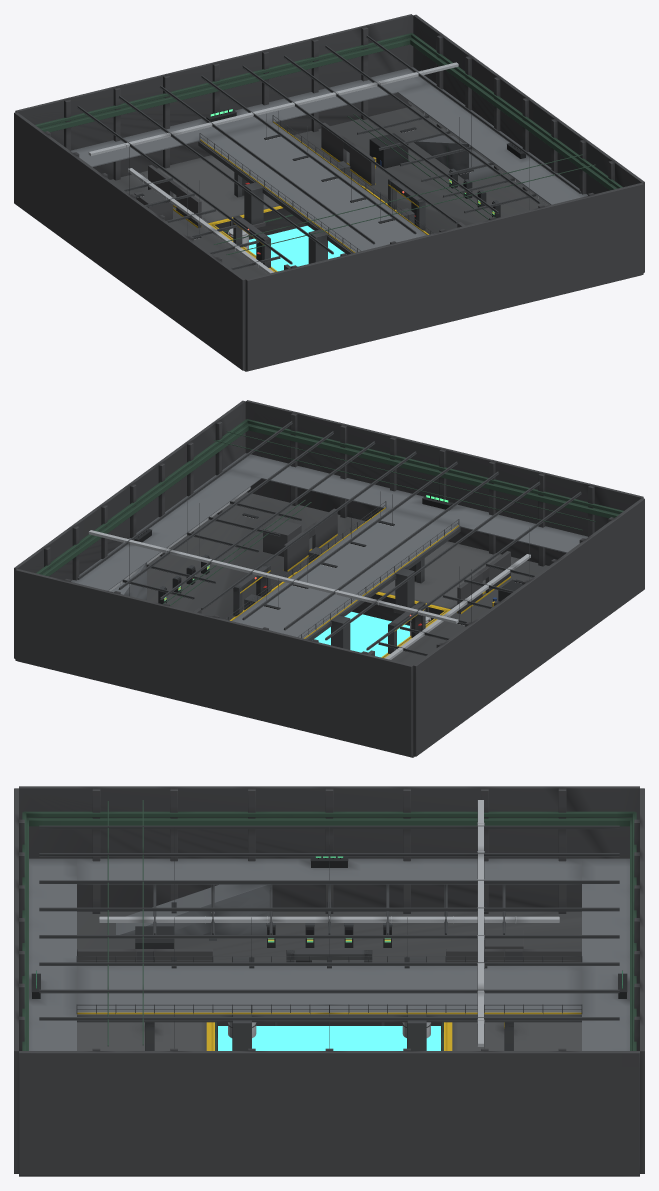
The model's file is hd_facility.glb.
The picture shows the model from 3 angles, top to bottom: view 1: azimuth 30°, elevation 25°; view 2: azimuth 150°, elevation 25°; view 3: azimuth 270°, elevation 25°; orthographic projection. The views are drawn at different scales.
Visible parts, largest first — view 1: Perimeter_Wall_South, Perimeter_Wall_West, Perimeter_Wall_North, Catwalk_Bridge_Deck, Ground_Floor_East, Perimeter_Wall_East, Facility_MainRoof_Trusses_NonCol, Wall_Pipes_NonCol, Catwalk_Perimeter_North, Catwalk_Perimeter_East, Ground_Floor_North, Ground_Floor_West (+16 smaller); view 2: Perimeter_Wall_North, Perimeter_Wall_West, Perimeter_Wall_South, Catwalk_Bridge_Deck, Ground_Floor_East, Perimeter_Wall_East, Facility_MainRoof_Trusses_NonCol, Catwalk_Perimeter_South, Wall_Pipes_NonCol, Catwalk_Perimeter_East, Ground_Floor_South, Ground_Floor_West (+15 smaller); view 3: Perimeter_Wall_East, Perimeter_Wall_West, Catwalk_Bridge_Deck, Facility_MainRoof_Trusses_NonCol, Ground_Floor_West, Wall_Pipes_NonCol, Catwalk_Perimeter_West, Catwalk_Perimeter_South, Catwalk_Perimeter_North, Coolant_Liquid_Surface_Detail, Catwalk_Ramp_West, Ground_Floor_South (+26 smaller).
Part boxes in pixels (bbox=[...]): Perimeter_Wall_South: bbox=[245, 183, 643, 371]; Perimeter_Wall_West: bbox=[14, 112, 245, 370]; Perimeter_Wall_North: bbox=[15, 14, 413, 179]; Catwalk_Bridge_Deck: bbox=[199, 122, 426, 253]; Ground_Floor_East: bbox=[293, 106, 640, 304]; Perimeter_Wall_East: bbox=[413, 14, 644, 272]; Facility_MainRoof_Trusses_NonCol: bbox=[77, 35, 581, 264]; Wall_Pipes_NonCol: bbox=[35, 33, 622, 190]; Catwalk_Perimeter_North: bbox=[71, 67, 434, 167]; Catwalk_Perimeter_East: bbox=[397, 83, 587, 204]; Ground_Floor_North: bbox=[141, 155, 279, 222]; Ground_Floor_West: bbox=[110, 172, 368, 371]; Perimeter_Wall_North: bbox=[15, 569, 413, 757]; Perimeter_Wall_West: bbox=[413, 498, 644, 756]; Perimeter_Wall_South: bbox=[245, 400, 643, 565]; Catwalk_Bridge_Deck: bbox=[232, 508, 459, 639]; Ground_Floor_East: bbox=[18, 492, 365, 690]; Perimeter_Wall_East: bbox=[14, 400, 245, 658]; Facility_MainRoof_Trusses_NonCol: bbox=[77, 421, 581, 650]; Catwalk_Perimeter_South: bbox=[224, 453, 587, 553]; Wall_Pipes_NonCol: bbox=[36, 419, 623, 576]; Catwalk_Perimeter_East: bbox=[71, 469, 261, 590]; Ground_Floor_South: bbox=[379, 541, 517, 608]; Ground_Floor_West: bbox=[290, 558, 548, 757]; Perimeter_Wall_East: bbox=[19, 1051, 639, 1175]; Perimeter_Wall_West: bbox=[19, 786, 639, 911]; Catwalk_Bridge_Deck: bbox=[77, 966, 581, 1015]; Facility_MainRoof_Trusses_NonCol: bbox=[39, 825, 619, 1020]; Ground_Floor_West: bbox=[77, 911, 581, 962]; Wall_Pipes_NonCol: bbox=[22, 811, 636, 1050]; Catwalk_Perimeter_West: bbox=[77, 858, 581, 884]; Catwalk_Perimeter_South: bbox=[29, 858, 76, 1050]; Catwalk_Perimeter_North: bbox=[582, 858, 629, 1050]; Coolant_Liquid_Surface_Detail: bbox=[218, 1026, 440, 1050]; Catwalk_Ramp_West: bbox=[116, 884, 271, 934]; Ground_Floor_South: bbox=[77, 1022, 206, 1050].
Size of what is drawn, in the model's own units: 195 by 57.9 by 195.
